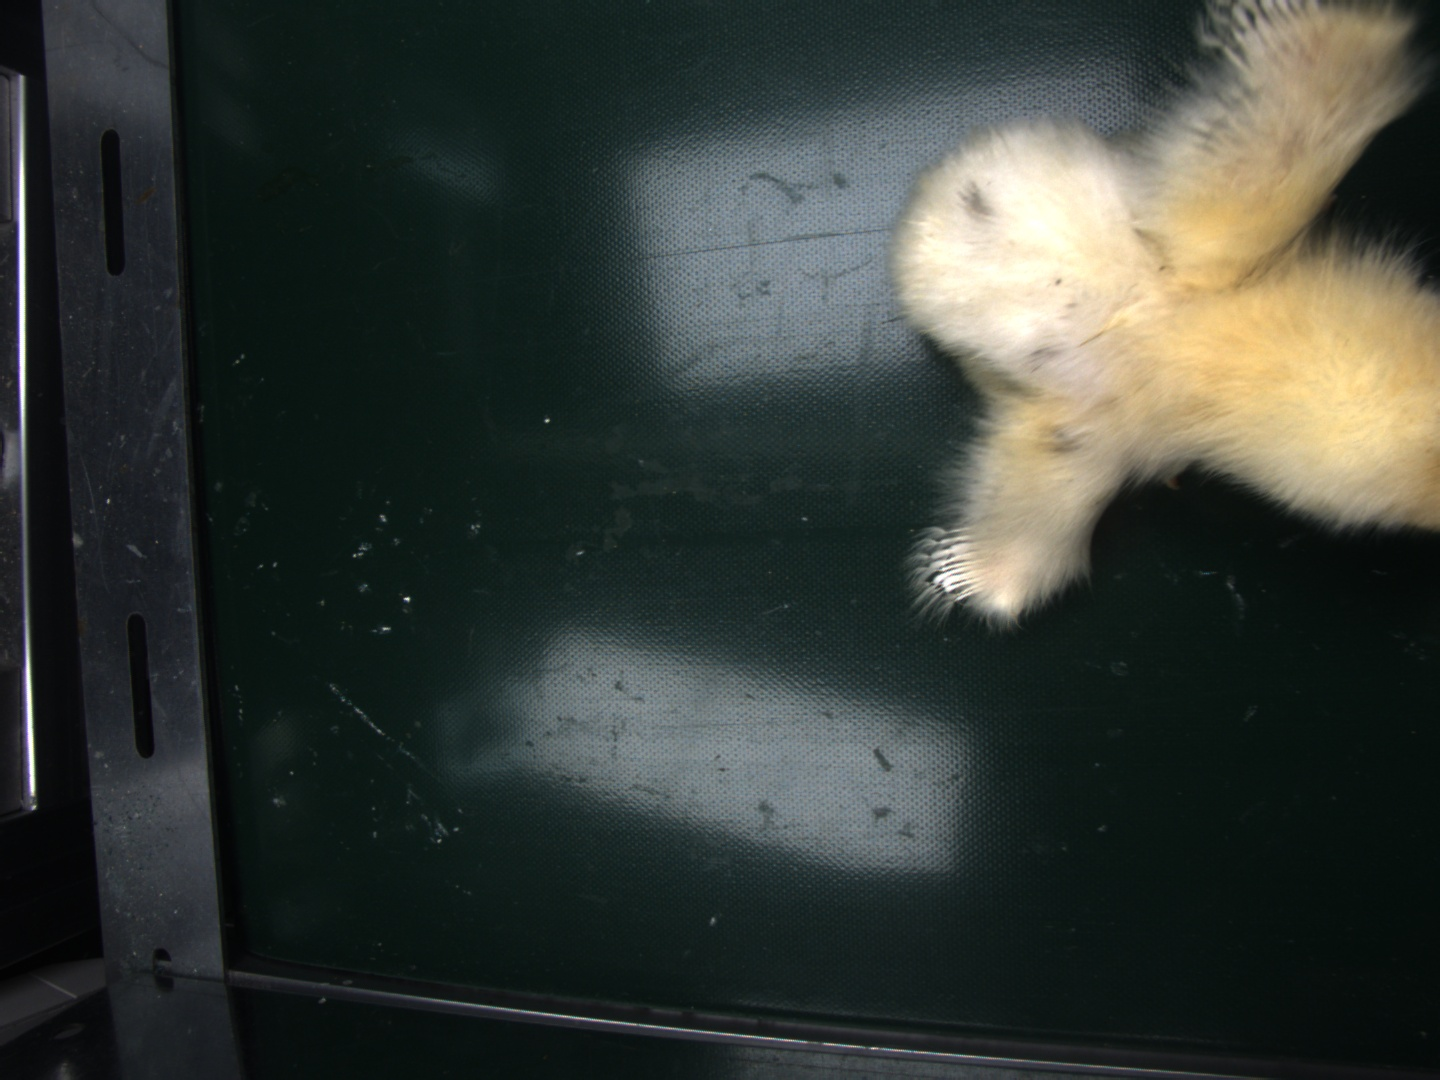male: (934, 533, 984, 604)
